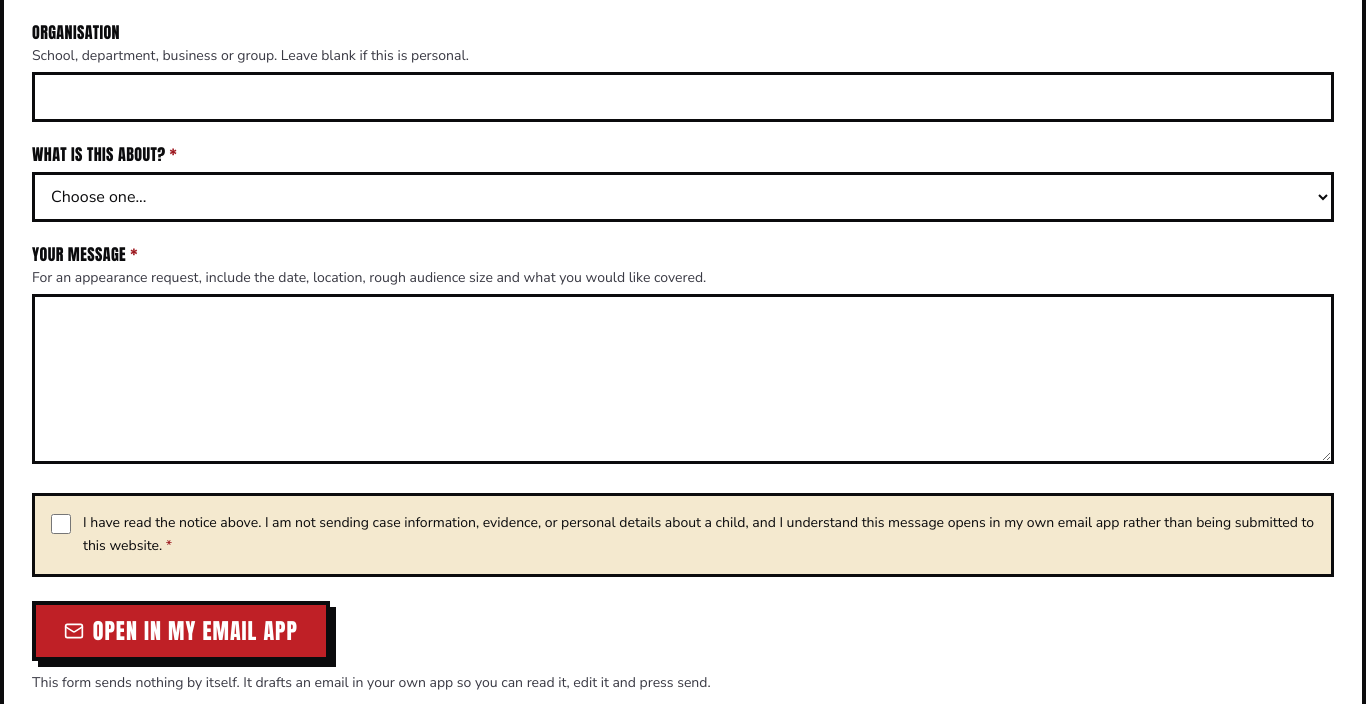
Test case: contact form validation › blocks submission and lists every problem when the form is empty
(page scrolled)
Click the button "Open in my email app". click: (181, 631)
box: [32,601,330,661]
(page scrolled)
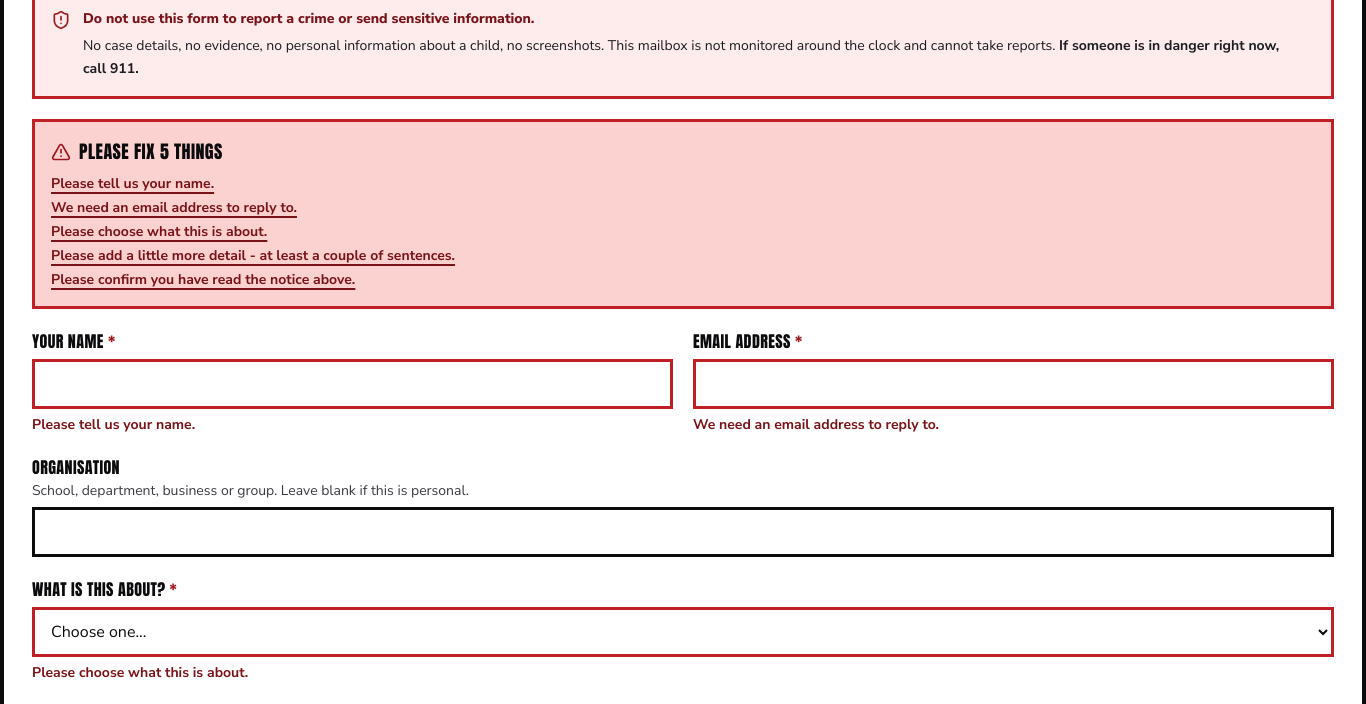
Check: the message shows "Please fix 5 things", box [32,119,1334,309]
